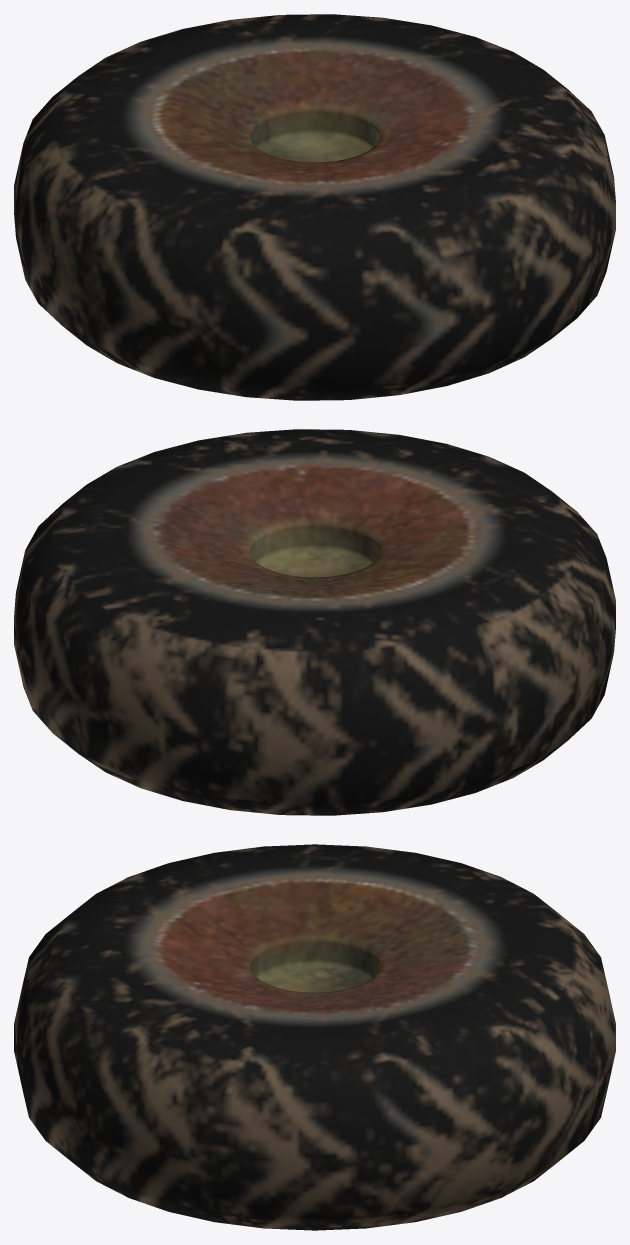
The model's file is Wheel.FBX.
3 views of the same model, one above another, from view 1: azimuth 30°, elevation 25°; view 2: azimuth 150°, elevation 25°; view 3: azimuth 270°, elevation 25° (orthographic).
Parts seen in each view (by area): view 1: Wheel; view 2: Wheel; view 3: Wheel.
Boxes of the visible parts, x1,y1,x2,y2 form: Wheel: (14,14,615,400); Wheel: (14,429,615,815); Wheel: (14,844,615,1230).
Bounding box in the file's own units: 29.56 × 29.56 × 9.79.
